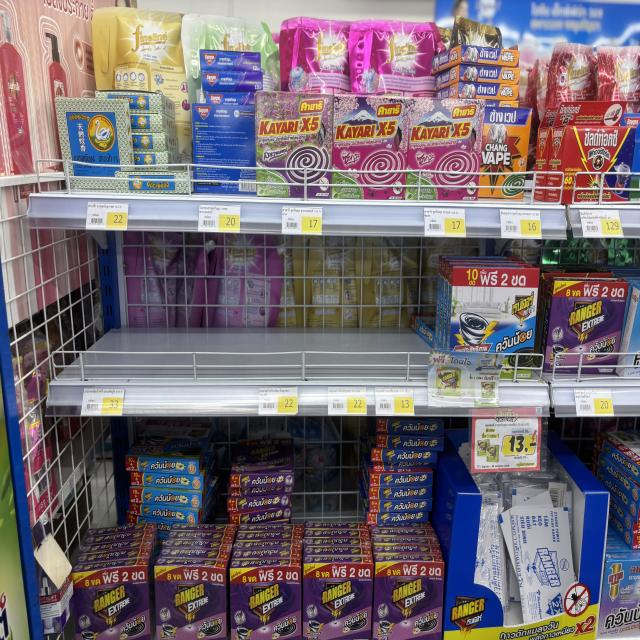empty_shelf: (72, 415, 449, 570), (54, 234, 446, 378)
